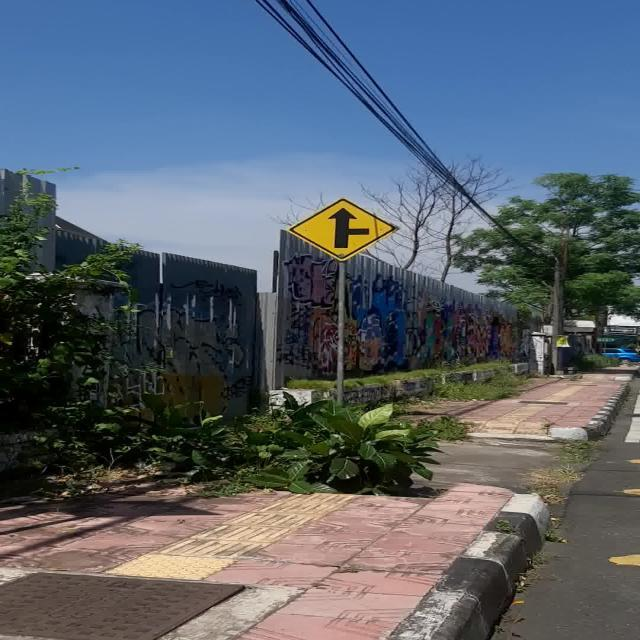Persimpangan 3 Prioritas Kanan: (287, 198, 399, 262)
